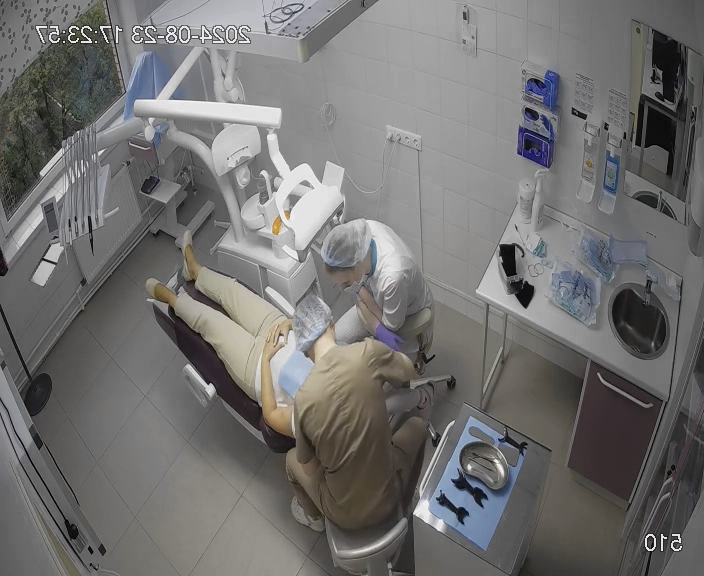Patient: (142, 229, 373, 473)
